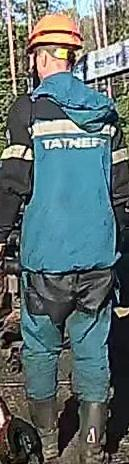helmet: (25, 13, 84, 54)
vest: (0, 97, 129, 274)
